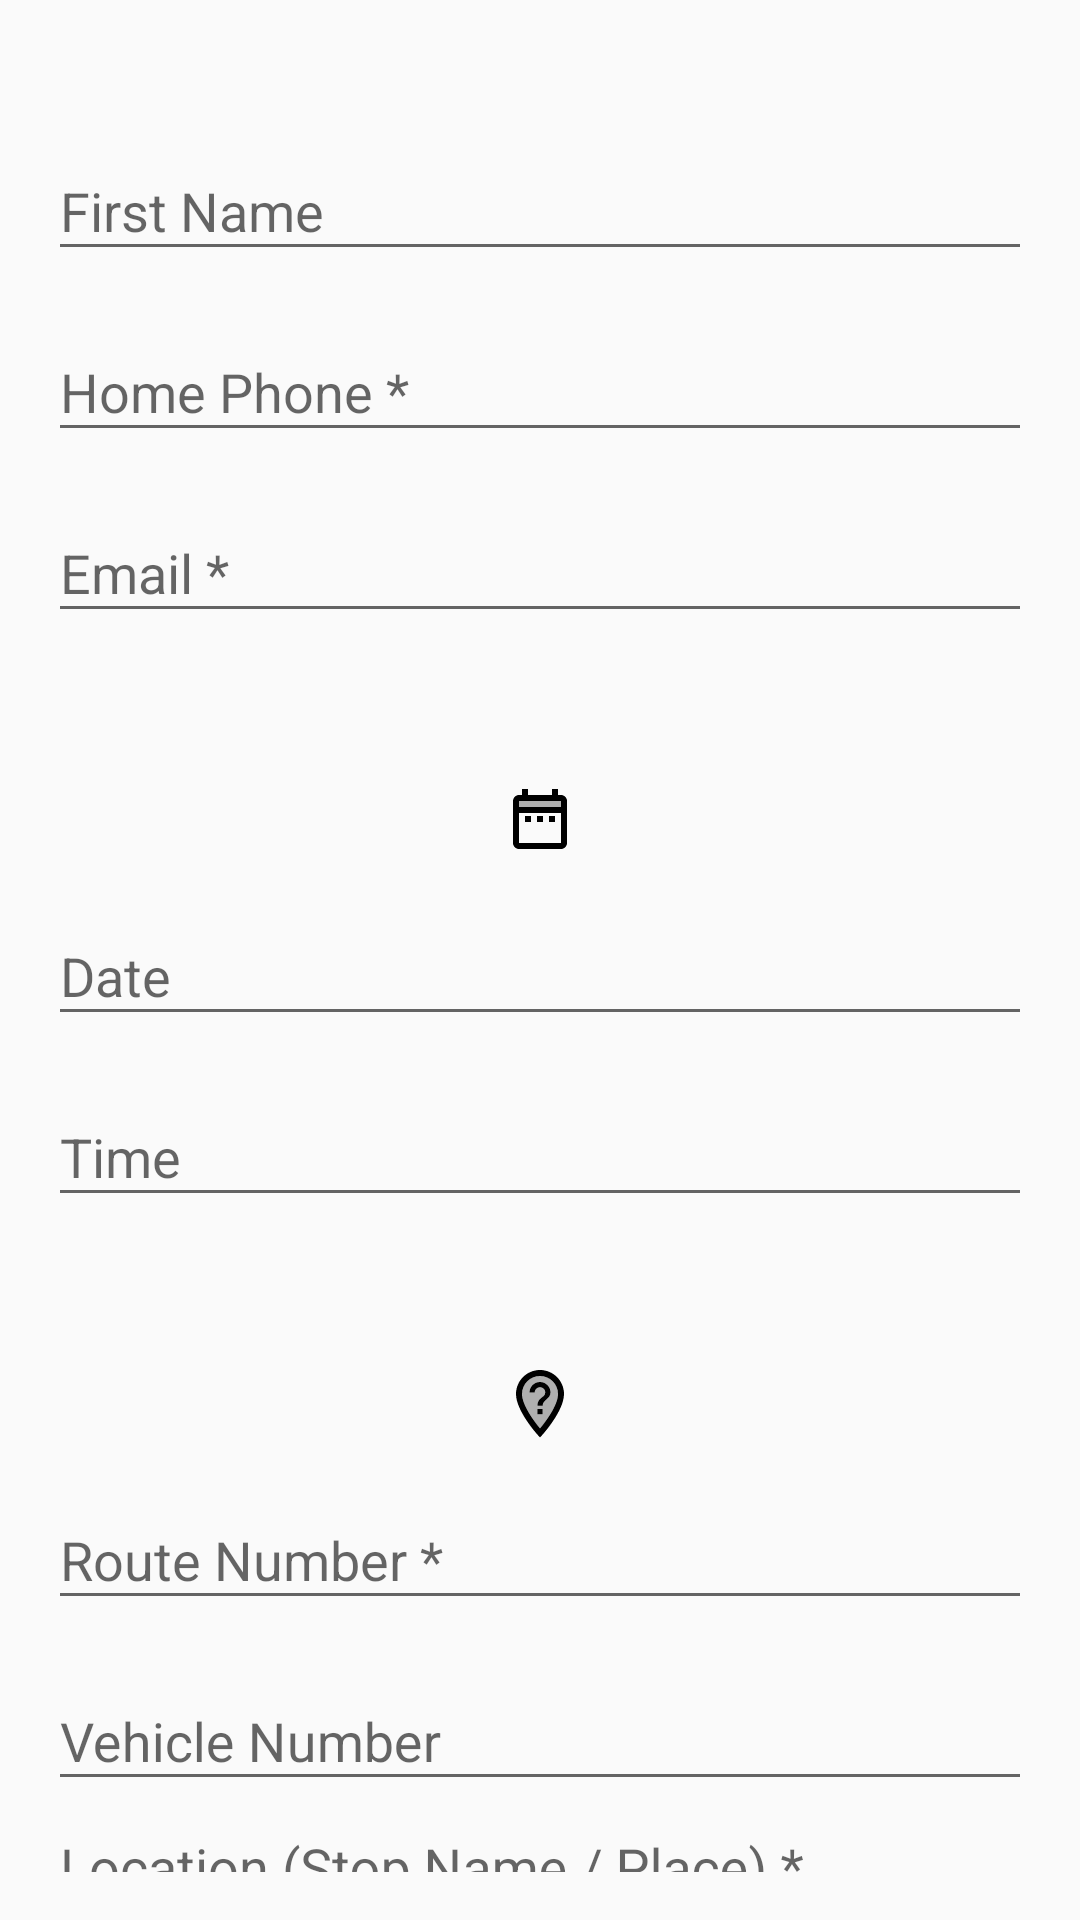

Screen size 1080px×1920px. Icon name, then its center in pixels as (x,y):
location: (540,1403)
